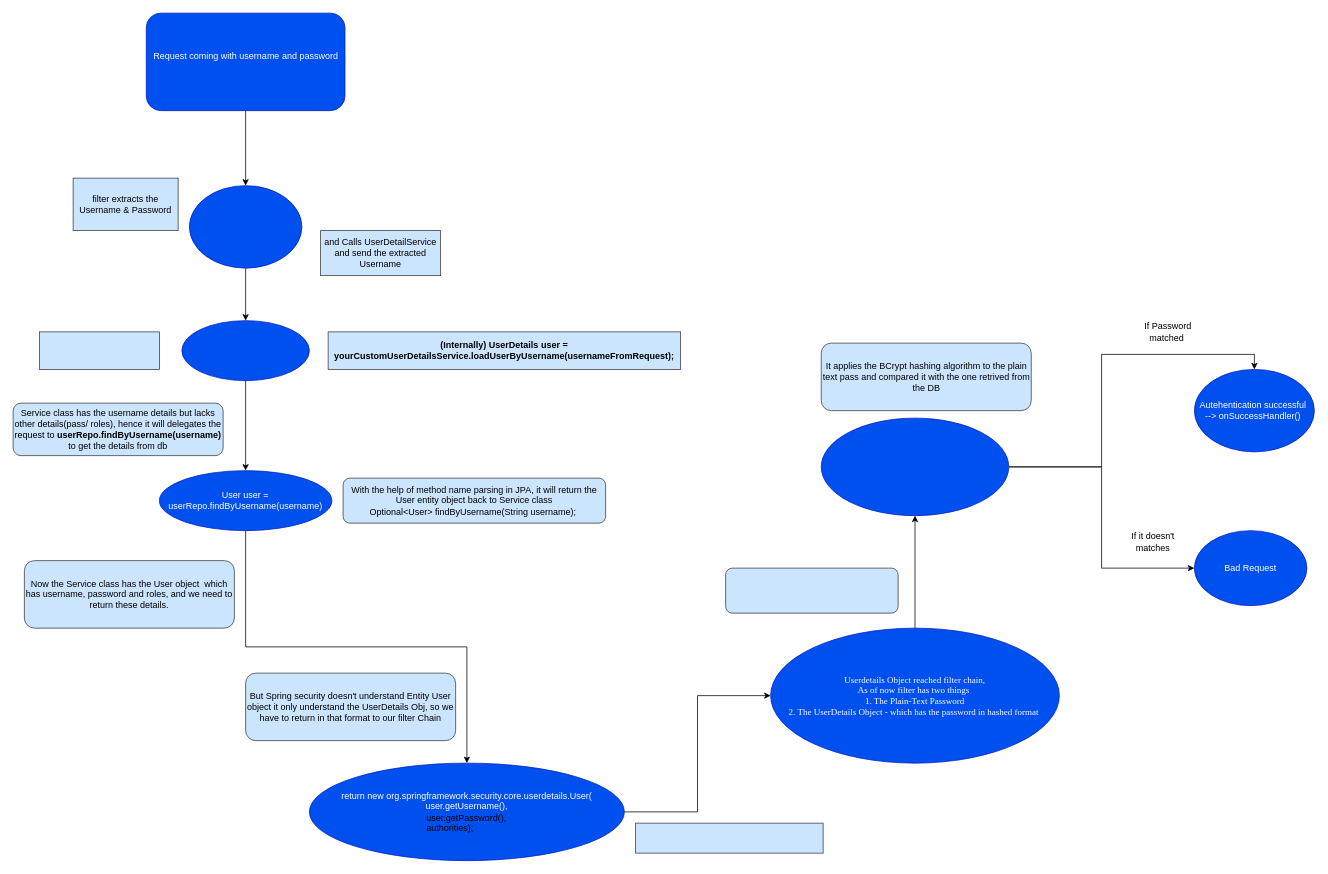
Some shapes in this 1328 by 874 pixel diagram are drawn without their labels. The box of each missing label's shape, as (x1, y1, x2, y2) in pixels:
AuthenticationProvider: (820, 417, 1009, 516)
call the UserDetail Service: (181, 320, 309, 381)
Delegates the request of authentication to Authentication Provider: (725, 567, 898, 613)
hits the Security Filter Chain: (189, 185, 302, 268)
Returning the UserDetails object back to filterchain: (635, 822, 823, 853)
Service Sole method LoadUserByUsername will be called: (39, 331, 159, 369)
